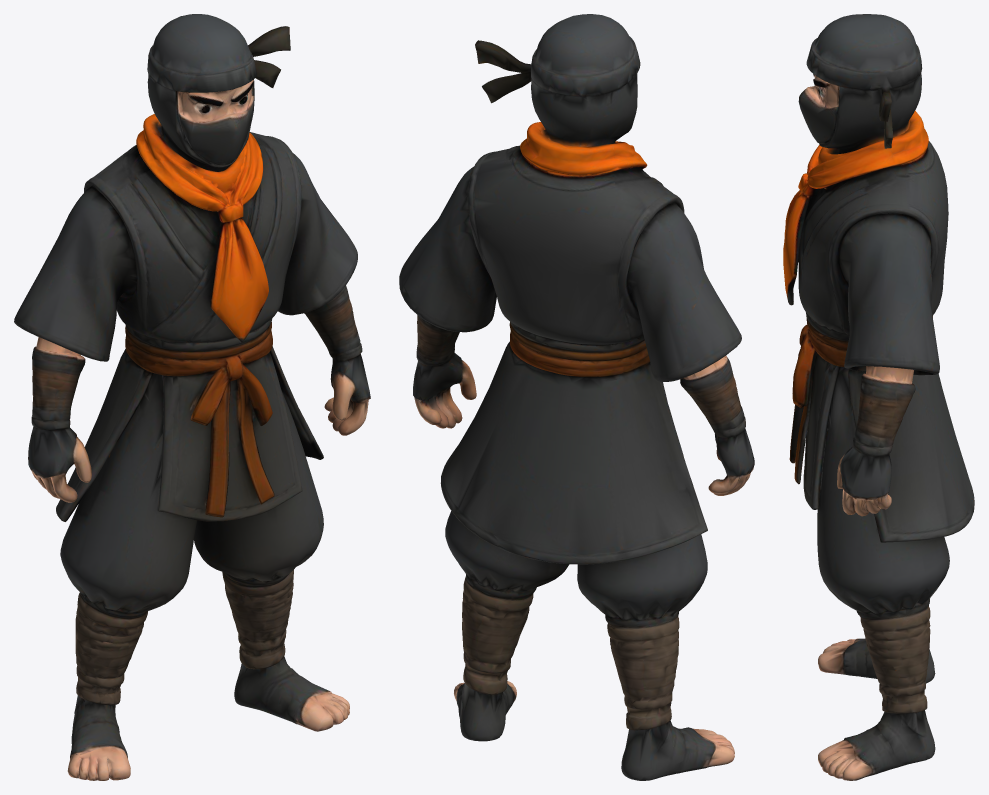
File: ninja.glb
3 renders of one model, left to right at view 1: azimuth 30°, elevation 25°; view 2: azimuth 150°, elevation 25°; view 3: azimuth 270°, elevation 25°, orthographic. The views are drawn at different scales.
Parts seen in each view (by area): view 1: node_0; view 2: node_0; view 3: node_0.
Part boxes in pixels (x1=…): node_0: x1=14, y1=14, x2=370, y2=780; node_0: x1=399, y1=14, x2=754, y2=780; node_0: x1=783, y1=14, x2=974, y2=780.
Size of the model in its own units: 0.5406 by 1.11 by 0.2768.
1 material, 1 textured.
